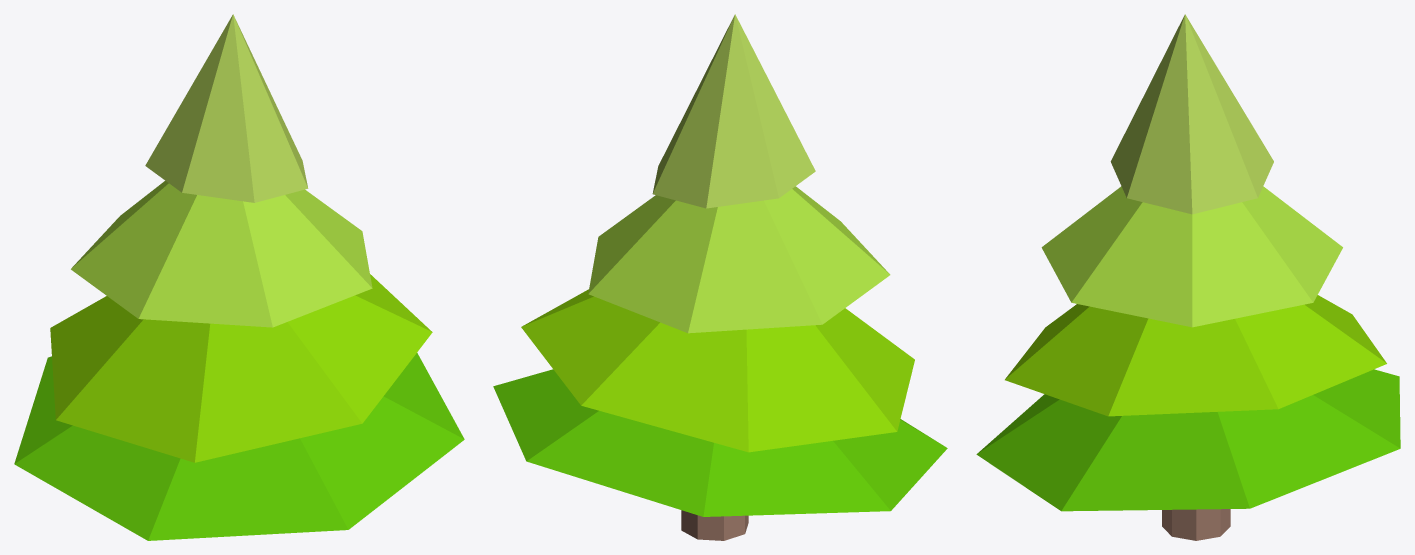
Rendered from pinetree.fbx.
The picture shows the model from 3 angles, left to right: view 1: azimuth 30°, elevation 25°; view 2: azimuth 150°, elevation 25°; view 3: azimuth 270°, elevation 25°; orthographic projection.
Parts seen in each view (by area): view 1: pCone5; view 2: pCone5; view 3: pCone5.
Boxes of the visible parts, <box> form: pCone5: <box>14,14,464,540</box>; pCone5: <box>493,14,947,540</box>; pCone5: <box>976,14,1400,540</box>.
Size of the model in its own units: 7.45 by 9.19 by 6.99.
